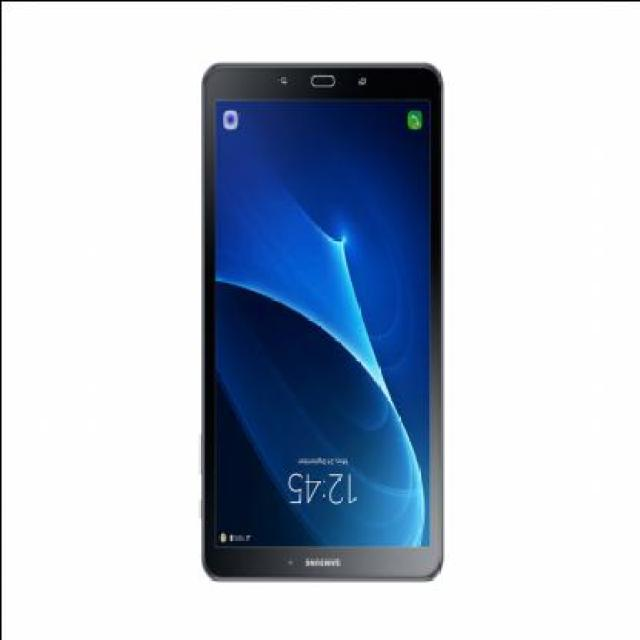smart phone: (191, 60, 489, 610)
